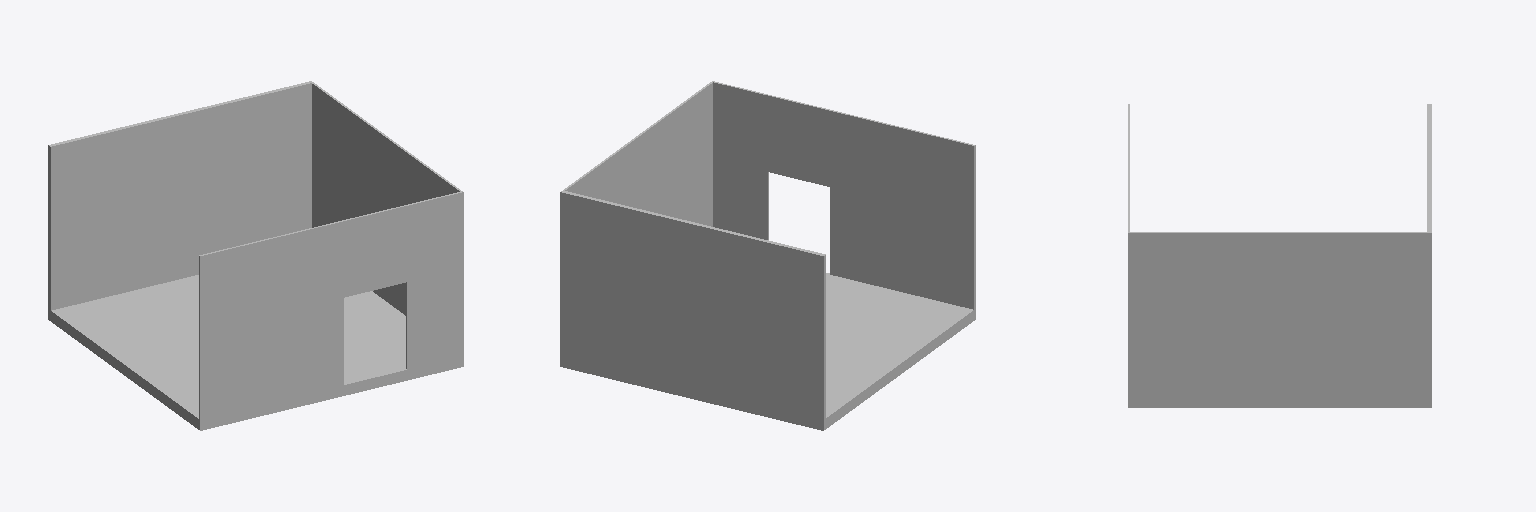
The model's file is 4x2 second-2.obj.
3 views of the same model, side by side, from view 1: azimuth 30°, elevation 25°; view 2: azimuth 150°, elevation 25°; view 3: azimuth 270°, elevation 25° (orthographic).
Parts seen in each view (by area): view 1: 4x2 second-2; view 2: 4x2 second-2; view 3: 4x2 second-2.
Boxes of the visible parts, box(x1,y1,x2,y2) form: 4x2 second-2: box(48, 81, 463, 430); 4x2 second-2: box(560, 81, 975, 430); 4x2 second-2: box(1128, 104, 1431, 407).
Bounding box in the file's own units: 126 × 80 × 126.